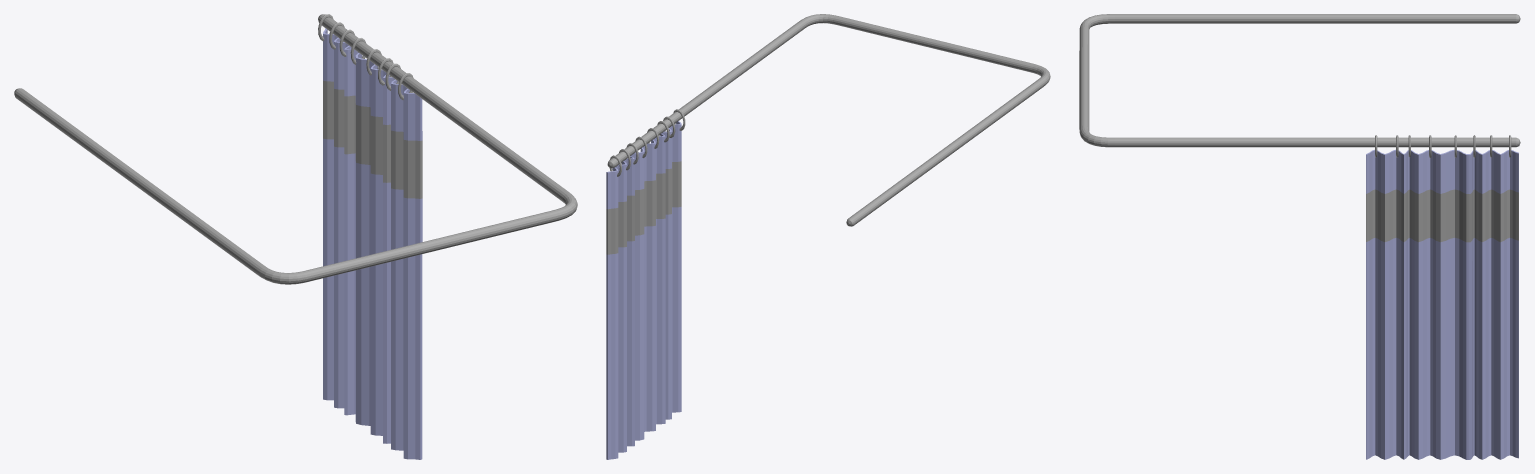
File: Hanging Curtain Open.fbx
3 views of the same model, side by side, from view 1: azimuth 30°, elevation 25°; view 2: azimuth 150°, elevation 25°; view 3: azimuth 270°, elevation 25° (orthographic). The views are drawn at different scales.
Parts seen in each view (by area): view 1: Curtain, Rod, Connectors; view 2: Curtain, Rod, Connectors; view 3: Curtain, Rod, Connectors.
Boxes of the visible parts, x1=… form: Curtain: x1=323, y1=28, x2=422, y2=459; Rod: x1=14, y1=14, x2=577, y2=284; Connectors: x1=318, y1=14, x2=413, y2=100; Curtain: x1=606, y1=121, x2=681, y2=459; Rod: x1=607, y1=14, x2=1050, y2=226; Connectors: x1=609, y1=109, x2=685, y2=176; Curtain: x1=1366, y1=149, x2=1518, y2=459; Rod: x1=1079, y1=14, x2=1520, y2=147; Connectors: x1=1375, y1=135, x2=1511, y2=158.
Size of the model in its own units: 20.03 by 23.13 by 28.83.
